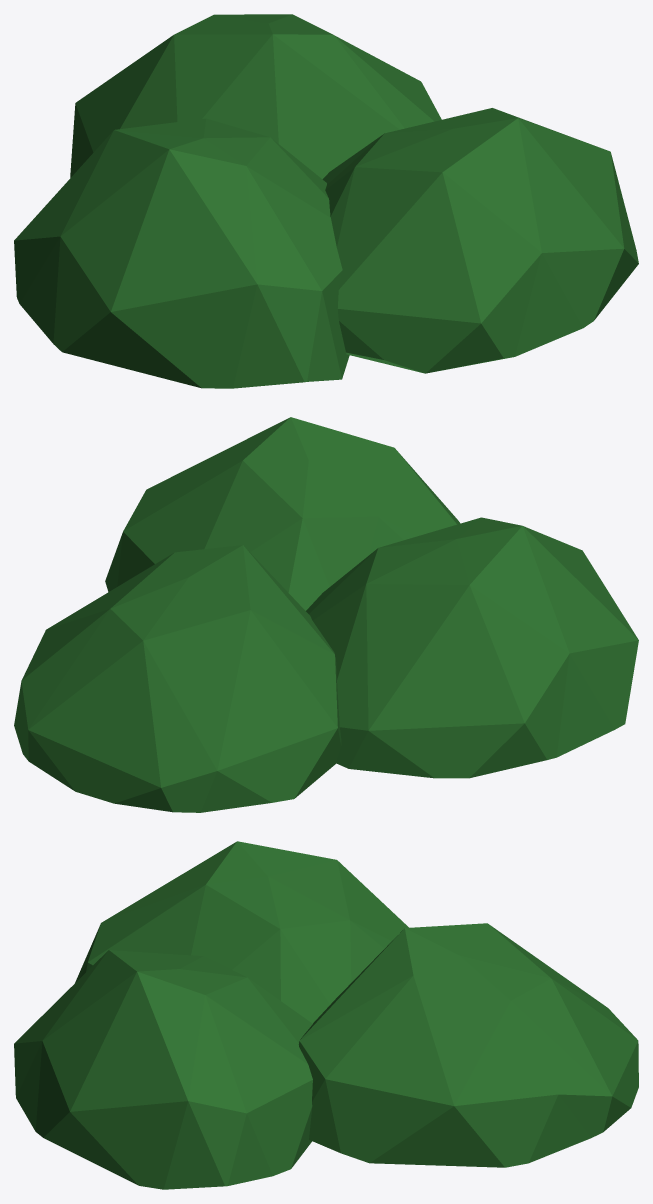
Rendered from bush1.glb.
3 renders of one model, top to bottom at view 1: azimuth 30°, elevation 25°; view 2: azimuth 150°, elevation 25°; view 3: azimuth 270°, elevation 25°, orthographic. The views are drawn at different scales.
Parts seen in each view (by area): view 1: Bush2.1; view 2: Bush2.1; view 3: Bush2.1.
Boxes of the visible parts, box(x1,y1,x2,y2) form: Bush2.1: box(14, 14, 638, 388); Bush2.1: box(14, 417, 638, 812); Bush2.1: box(14, 841, 638, 1189).
Bounding box in the file's own units: 2.14 × 0.6962 × 2.36.
